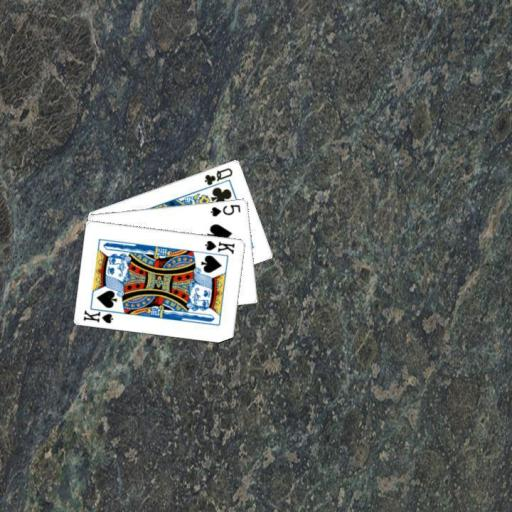5S: (208, 201, 242, 218)
KS: (80, 304, 119, 325), (202, 237, 237, 255)
QC: (201, 165, 234, 187)
